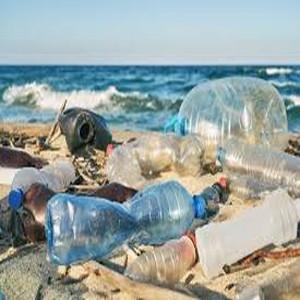Plastic: (40, 175, 211, 260), (216, 137, 300, 190)
